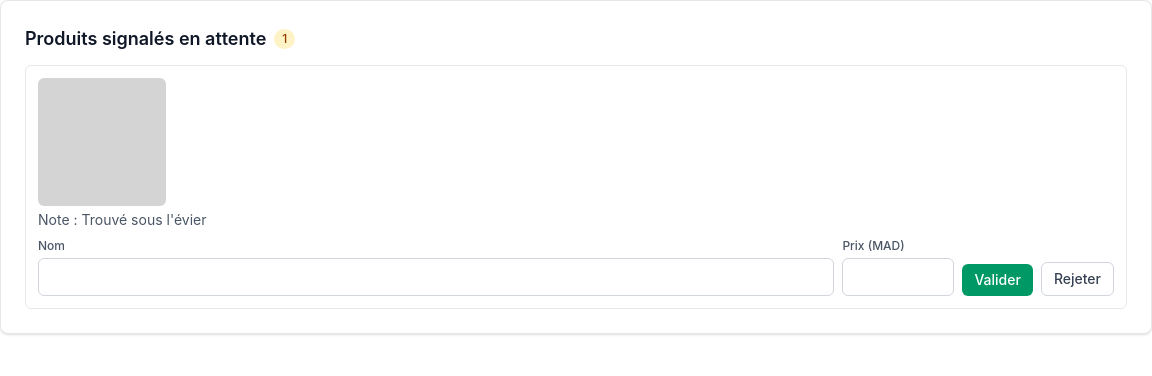
Test: ProduitsSignalesSection › exige un nom et un prix pour valider
This screenshot has width=1152, height=376.
Click the button "Valider": (998, 280) [962,264,1033,296]
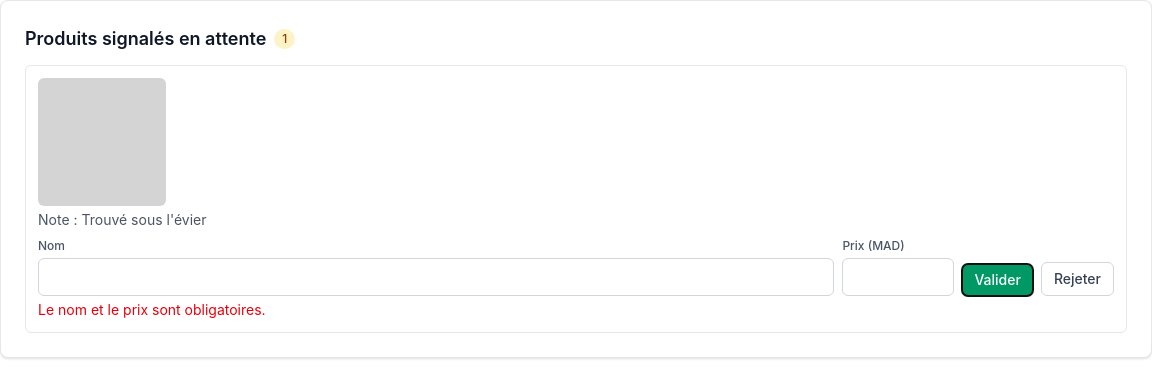
expect the text "Le nom et le prix sont obligatoires." is shown: met, box [38,301,266,318]
